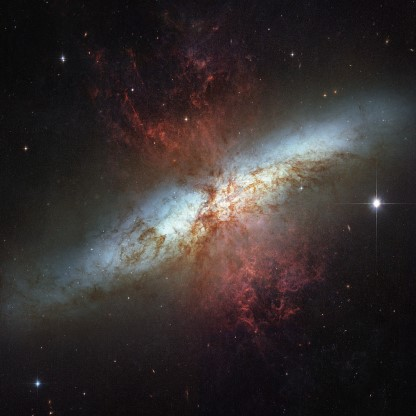Messier 82: (22, 51, 397, 355)
